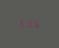six: (18, 19, 24, 27), (33, 20, 39, 28)
zero: (26, 19, 32, 28)
